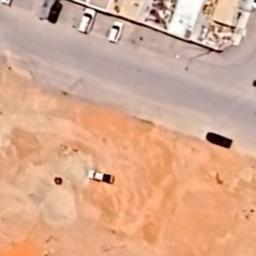pickup: (87, 169, 115, 184)
sedan: (48, 2, 64, 24)
unknown: (206, 132, 233, 148)
van: (78, 7, 98, 35), (108, 20, 124, 43)
